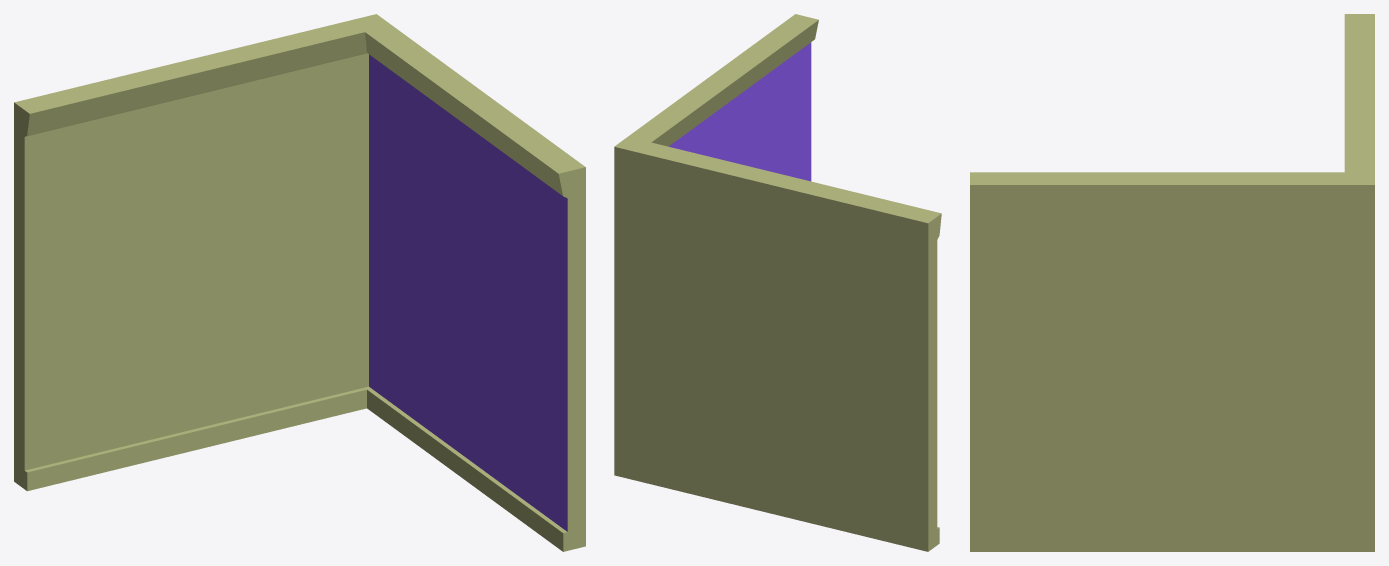
The model's file is Wall_3.gltf.
The picture shows the model from 3 angles, left to right: view 1: azimuth 30°, elevation 25°; view 2: azimuth 150°, elevation 25°; view 3: azimuth 270°, elevation 25°; orthographic projection. The views are drawn at different scales.
Visible parts, largest first — view 1: SM_Wall_4_218_StaticMeshComponent0; view 2: SM_Wall_4_218_StaticMeshComponent0; view 3: SM_Wall_4_218_StaticMeshComponent0.
Part boxes in pixels (x1,y1,x2,y2): SM_Wall_4_218_StaticMeshComponent0: [14, 14, 585, 551]; SM_Wall_4_218_StaticMeshComponent0: [614, 14, 941, 551]; SM_Wall_4_218_StaticMeshComponent0: [970, 14, 1374, 551].
Size of the model in its own units: 4 by 4 by 4.
Materials: 1 (1 with a texture image).
